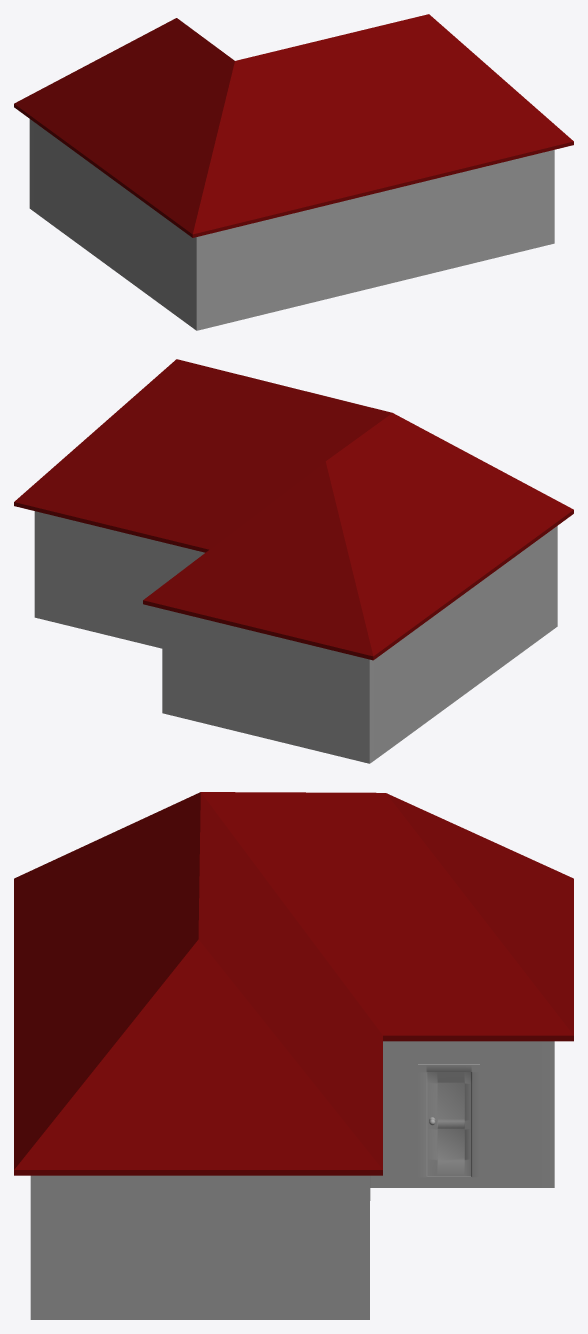
Rendered from HouseExport.fbx.
The picture shows the model from 3 angles, top to bottom: view 1: azimuth 30°, elevation 25°; view 2: azimuth 150°, elevation 25°; view 3: azimuth 270°, elevation 25°; orthographic projection. The views are drawn at different scales.
Parts seen in each view (by area): view 1: pCube21, pCube19; view 2: pCube21, pCube19; view 3: pCube21, pCube19, pCube20.
Part boxes in pixels (x1,y1,x2,y2): pCube21: [14, 14, 573, 237]; pCube19: [29, 119, 554, 330]; pCube21: [14, 359, 573, 660]; pCube19: [34, 511, 557, 763]; pCube21: [14, 792, 573, 1175]; pCube19: [30, 1041, 554, 1319]; pCube20: [418, 1064, 479, 1177].
Size of the model in its own units: 11.12 by 5.79 by 9.03.
